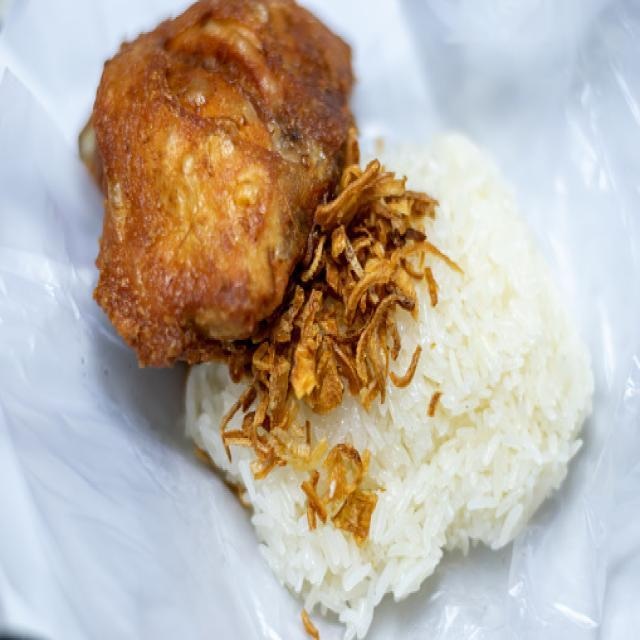thit ga: (77, 0, 391, 376)
xoi: (180, 126, 592, 635)
xoi ga chien: (77, 0, 606, 640)
